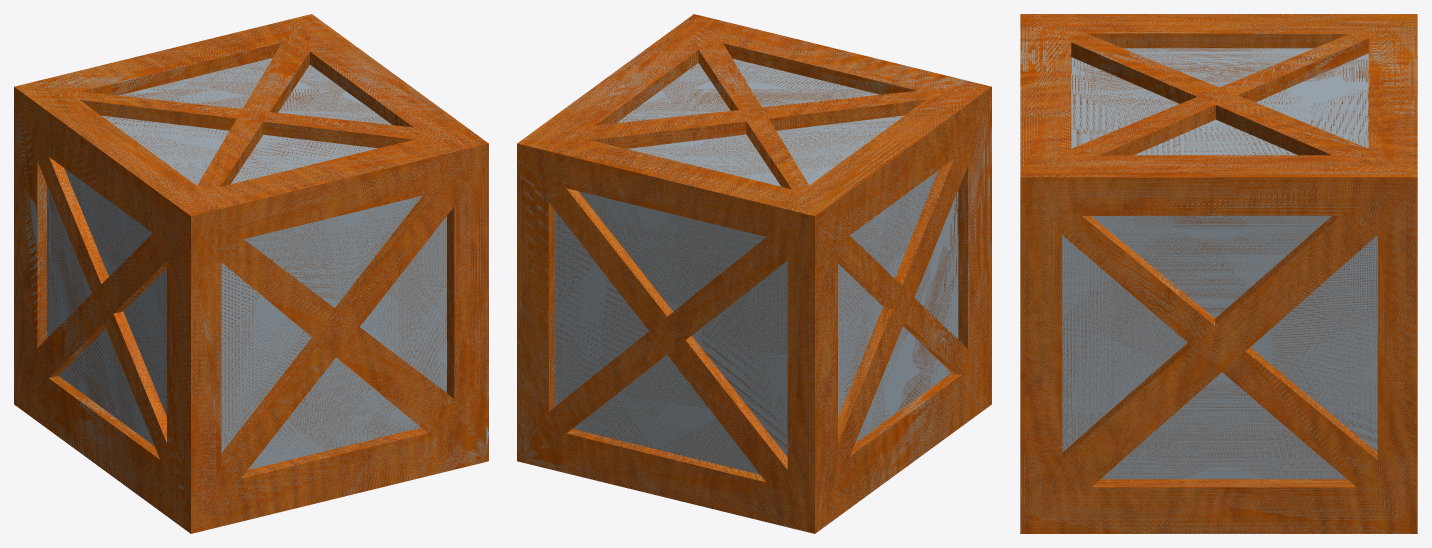
The model's file is 1m3_crate.fbx.
3 renders of one model, left to right at view 1: azimuth 30°, elevation 25°; view 2: azimuth 150°, elevation 25°; view 3: azimuth 270°, elevation 25°, orthographic. The views are drawn at different scales.
Visible parts, largest first — view 1: Group1; view 2: Group1; view 3: Group1.
Part boxes in pixels (bbox=[...]): Group1: bbox=[14, 14, 488, 533]; Group1: bbox=[517, 14, 991, 533]; Group1: bbox=[1020, 14, 1417, 533].
Size of the model in its own units: 98.13 by 100 by 101.
